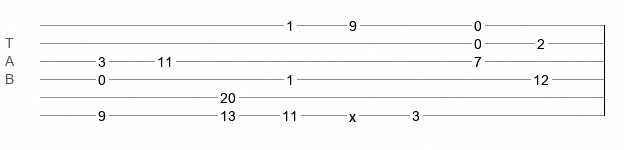0: (98, 72, 106, 82), (474, 36, 482, 46), (474, 18, 482, 28)
1: (286, 72, 294, 82), (286, 18, 294, 28)
11: (157, 54, 173, 64), (282, 108, 298, 118)
12: (533, 72, 549, 82)
13: (220, 108, 236, 118)
2: (537, 36, 545, 46)
20: (220, 90, 236, 100)
3: (98, 54, 106, 64), (412, 108, 420, 118)
7: (474, 54, 482, 64)
9: (98, 108, 106, 118), (349, 18, 357, 28)
x: (349, 109, 356, 117)
